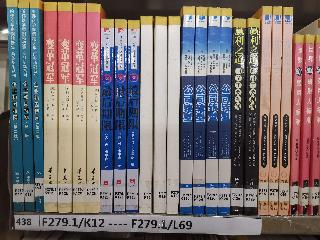book-spine: (82, 1, 103, 215), (5, 1, 25, 212), (203, 6, 222, 217), (255, 6, 274, 217), (17, 0, 35, 211), (41, 2, 58, 213), (179, 5, 196, 216), (191, 6, 208, 217), (267, 6, 283, 217), (244, 19, 261, 217), (137, 14, 153, 214), (165, 16, 181, 215), (229, 17, 245, 216), (56, 2, 71, 214), (71, 3, 86, 213), (298, 35, 315, 218), (153, 17, 168, 214), (29, 1, 43, 212), (279, 7, 293, 217), (99, 19, 114, 214), (113, 19, 128, 214), (218, 8, 232, 216), (289, 34, 304, 218), (126, 21, 137, 214), (309, 36, 320, 217)
